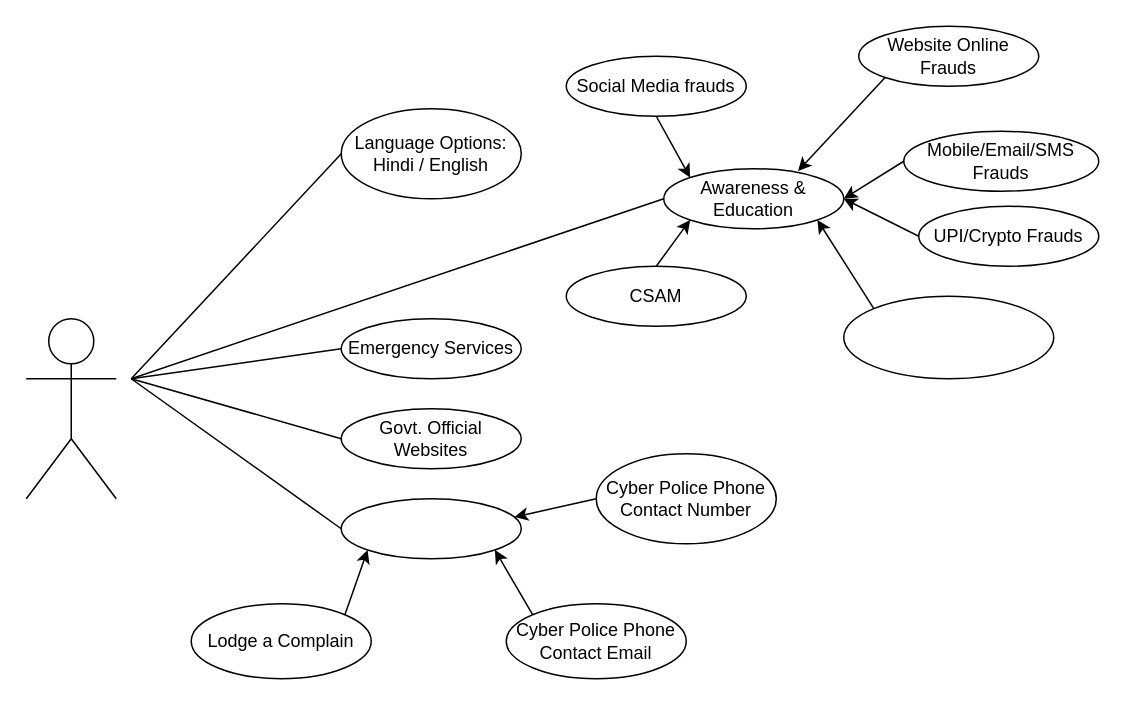
Image size: 1125x705. Some labels were removed from this diagram. Here are the shapes that lost their labels. From the top down, the centre of each, then its label:
At (948,337): "Cyber crime Related to Women & Children".
At (70,408): "Actor".
At (430,528): "File a report".
